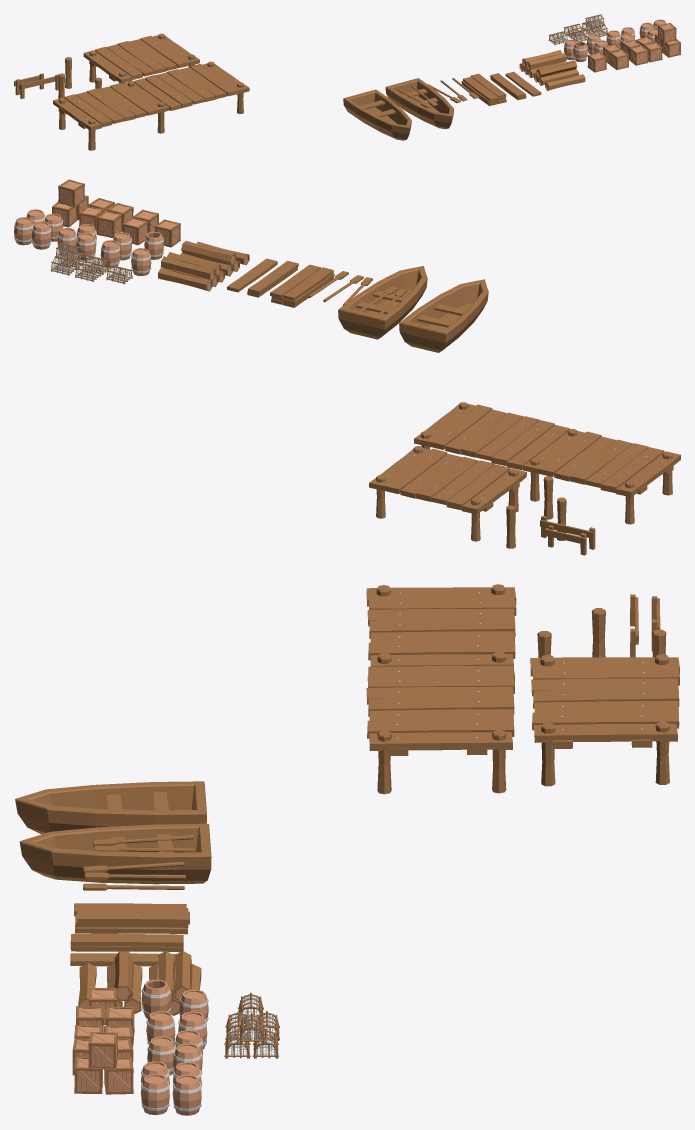
Rendered from dock.fbx.
3 views of the same model, one above another, from view 1: azimuth 30°, elevation 25°; view 2: azimuth 150°, elevation 25°; view 3: azimuth 270°, elevation 25° (orthographic). The views are drawn at different scales.
Visible parts, largest first — view 1: Dock_Long_Nails_Cylinder.329, Dock_Small_Nails_Cylinder.322, Boat_Cube.110, Boat_withpaddles_Cube.109, Crate_4_Cube.091, Plank_Pile_Cylinder.372, Log_5_Cylinder.368, Log_3_Cylinder.359, Crate_3_Cube.107, Crate_2_Cube.097, FishingBasket_3_Plane.543, Barrel_3_Cylinder.354 (+11 smaller); view 2: Dock_Long_Nails_Cylinder.329, Dock_Small_Nails_Cylinder.322, Boat_withpaddles_Cube.109, Boat_Cube.110, Log_5_Cylinder.368, Plank_Pile_Cylinder.372, Barrel_4_Cylinder.356, Crate_4_Cube.091, Crate_3_Cube.107, Log_3_Cylinder.359, Barrel_3_Cylinder.354, Barrel_2_Cylinder.350 (+7 smaller); view 3: Dock_Long_Nails_Cylinder.329, Dock_Small_Nails_Cylinder.322, Boat_withpaddles_Cube.109, Boat_Cube.110, Plank_Pile_Cylinder.372, Crate_3_Cube.107, Barrel_4_Cylinder.356, Plank_2_Cylinder.375, Log_5_Cylinder.368, Barrel_3_Cylinder.354, FishingBasket_3_Plane.543, Log_3_Cylinder.359 (+7 smaller).
Part boxes in pixels (x1,y1,x2,y2): Dock_Long_Nails_Cylinder.329: (53, 61, 249, 150); Dock_Small_Nails_Cylinder.322: (83, 33, 199, 83); Boat_Cube.110: (343, 89, 411, 140); Boat_withpaddles_Cube.109: (385, 78, 453, 129); Crate_4_Cube.091: (622, 36, 662, 65); Plank_Pile_Cylinder.372: (461, 73, 506, 105); Log_5_Cylinder.368: (519, 50, 566, 77); Log_3_Cylinder.359: (534, 60, 578, 85); Crate_3_Cube.107: (655, 23, 680, 57); Crate_2_Cube.097: (603, 44, 628, 69); FishingBasket_3_Plane.543: (582, 14, 607, 36); Barrel_3_Cylinder.354: (606, 27, 635, 49); Dock_Long_Nails_Cylinder.329: (414, 402, 680, 524); Dock_Small_Nails_Cylinder.322: (369, 446, 526, 541); Boat_withpaddles_Cube.109: (338, 266, 427, 339); Boat_Cube.110: (399, 279, 488, 352); Log_5_Cylinder.368: (158, 252, 224, 291); Plank_Pile_Cylinder.372: (270, 264, 334, 307); Barrel_4_Cylinder.356: (14, 209, 63, 249); Crate_4_Cube.091: (79, 198, 133, 238); Crate_3_Cube.107: (52, 179, 88, 227); Log_3_Cylinder.359: (180, 240, 239, 276); Barrel_3_Cylinder.354: (57, 224, 96, 260); Barrel_2_Cylinder.350: (100, 232, 131, 268); Dock_Long_Nails_Cylinder.329: (366, 584, 516, 794); Dock_Small_Nails_Cylinder.322: (530, 654, 679, 786); Boat_withpaddles_Cube.109: (19, 823, 211, 884); Boat_Cube.110: (15, 781, 206, 834); Plank_Pile_Cylinder.372: (74, 903, 189, 934); Crate_3_Cube.107: (74, 1032, 133, 1094); Barrel_4_Cylinder.356: (140, 1061, 201, 1115); Plank_2_Cylinder.375: (70, 933, 183, 952); Log_5_Cylinder.368: (149, 951, 201, 1015); Barrel_3_Cylinder.354: (147, 1030, 202, 1075); FishingBasket_3_Plane.543: (224, 1013, 278, 1058); Log_3_Cylinder.359: (107, 951, 142, 1014).
Bounding box in the file's own units: 2321 × 210 × 1250.
